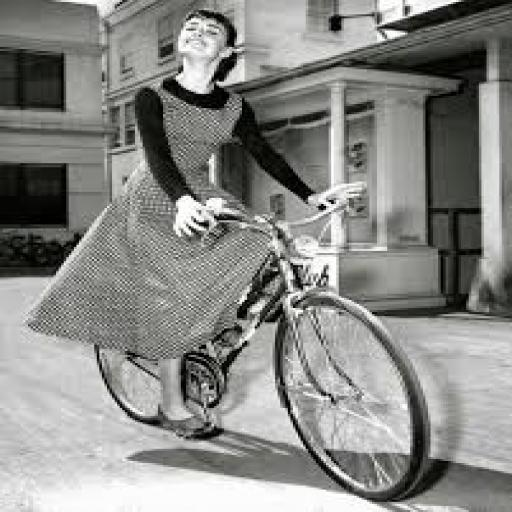cycling: (23, 6, 369, 443)
